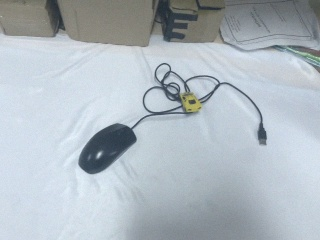box: (49, 1, 165, 50), (156, 1, 227, 46), (1, 1, 63, 39)
mouse: (78, 122, 137, 175)
toy_car: (180, 91, 202, 113)
